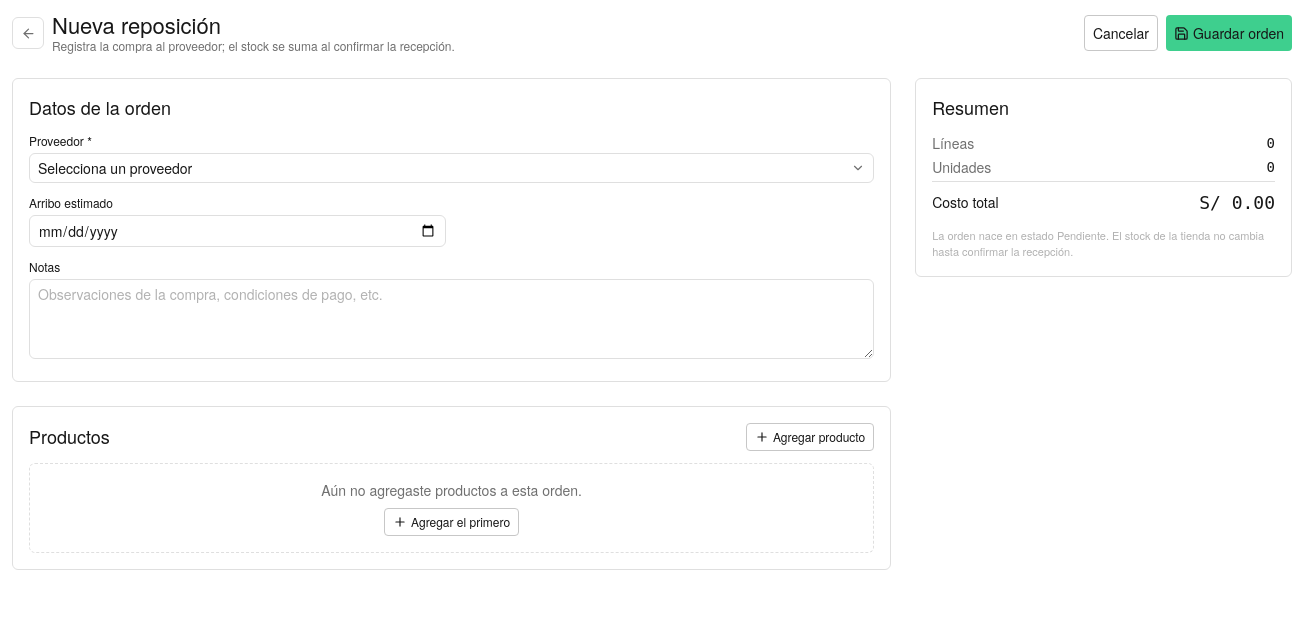
Scenario: NuevaReposicionPage (HU036 CA02/CA10) › permite quitar líneas y deshabilita el borrado cuando queda una sola
This screenshot has width=1304, height=627.
Check: the dropdown named "Proveedor de la orden" is shown, box [29, 153, 874, 183]
Click the button "Agregar producto": (810, 437) [746, 423, 874, 451]
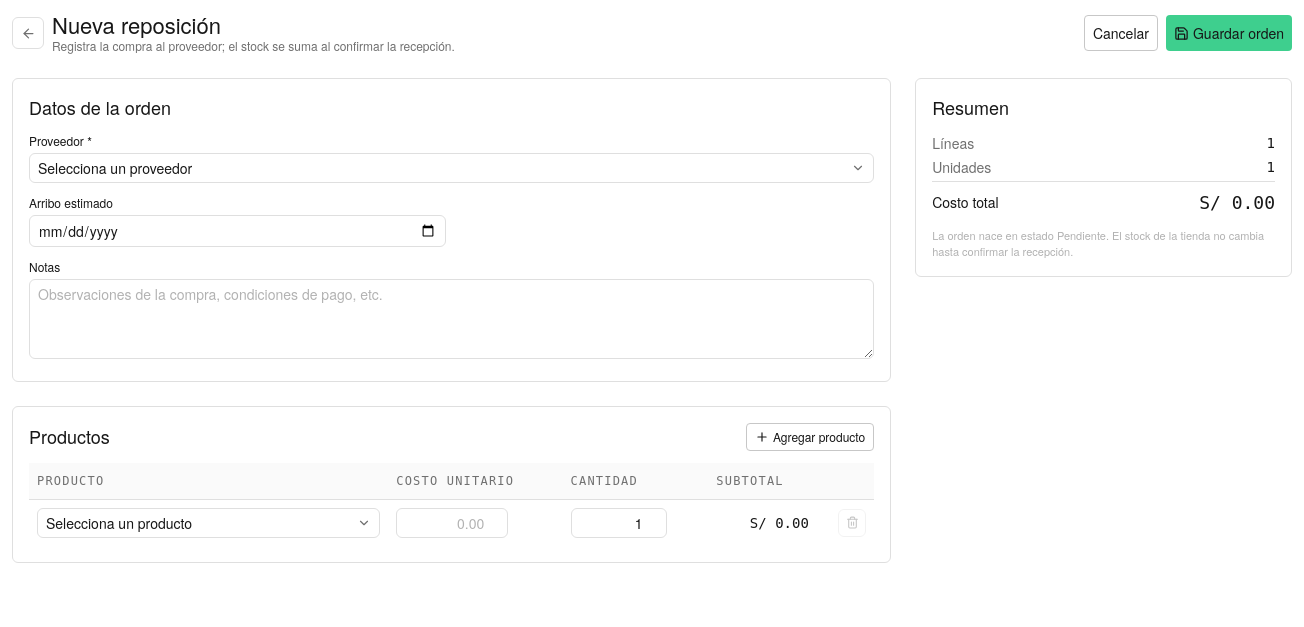
Click the button "Agregar producto": (810, 437) [746, 423, 874, 451]
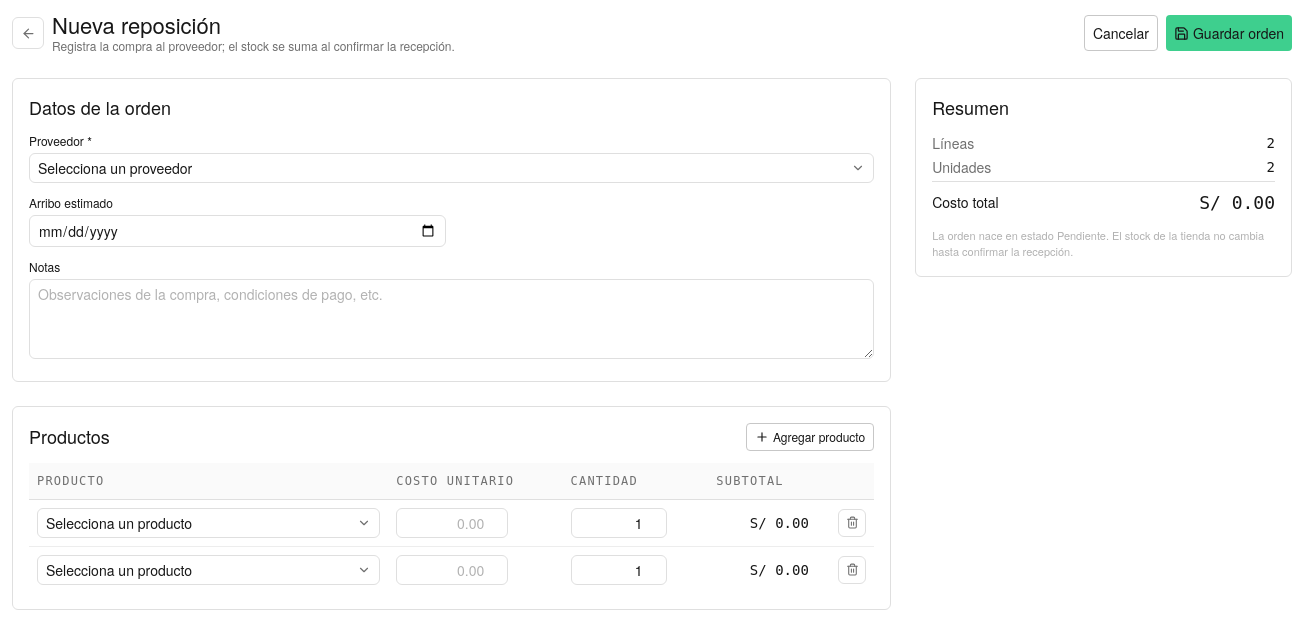
Check: the number of buttons named "Quitar línea" is 2
Click the 1st button named "Quitar línea": (852, 523) [838, 509, 866, 537]
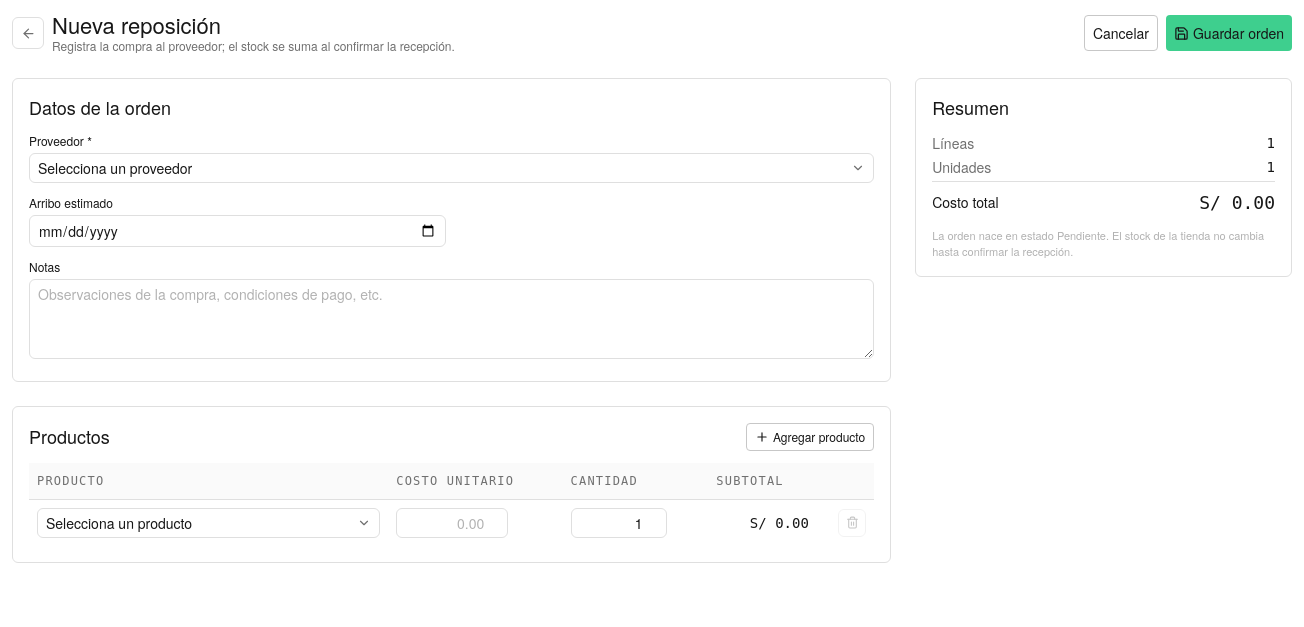
Check: the number of buttons named "Quitar línea" is 1, box [838, 509, 866, 537]
Check: the button named "Quitar línea" is disabled, box [838, 509, 866, 537]
